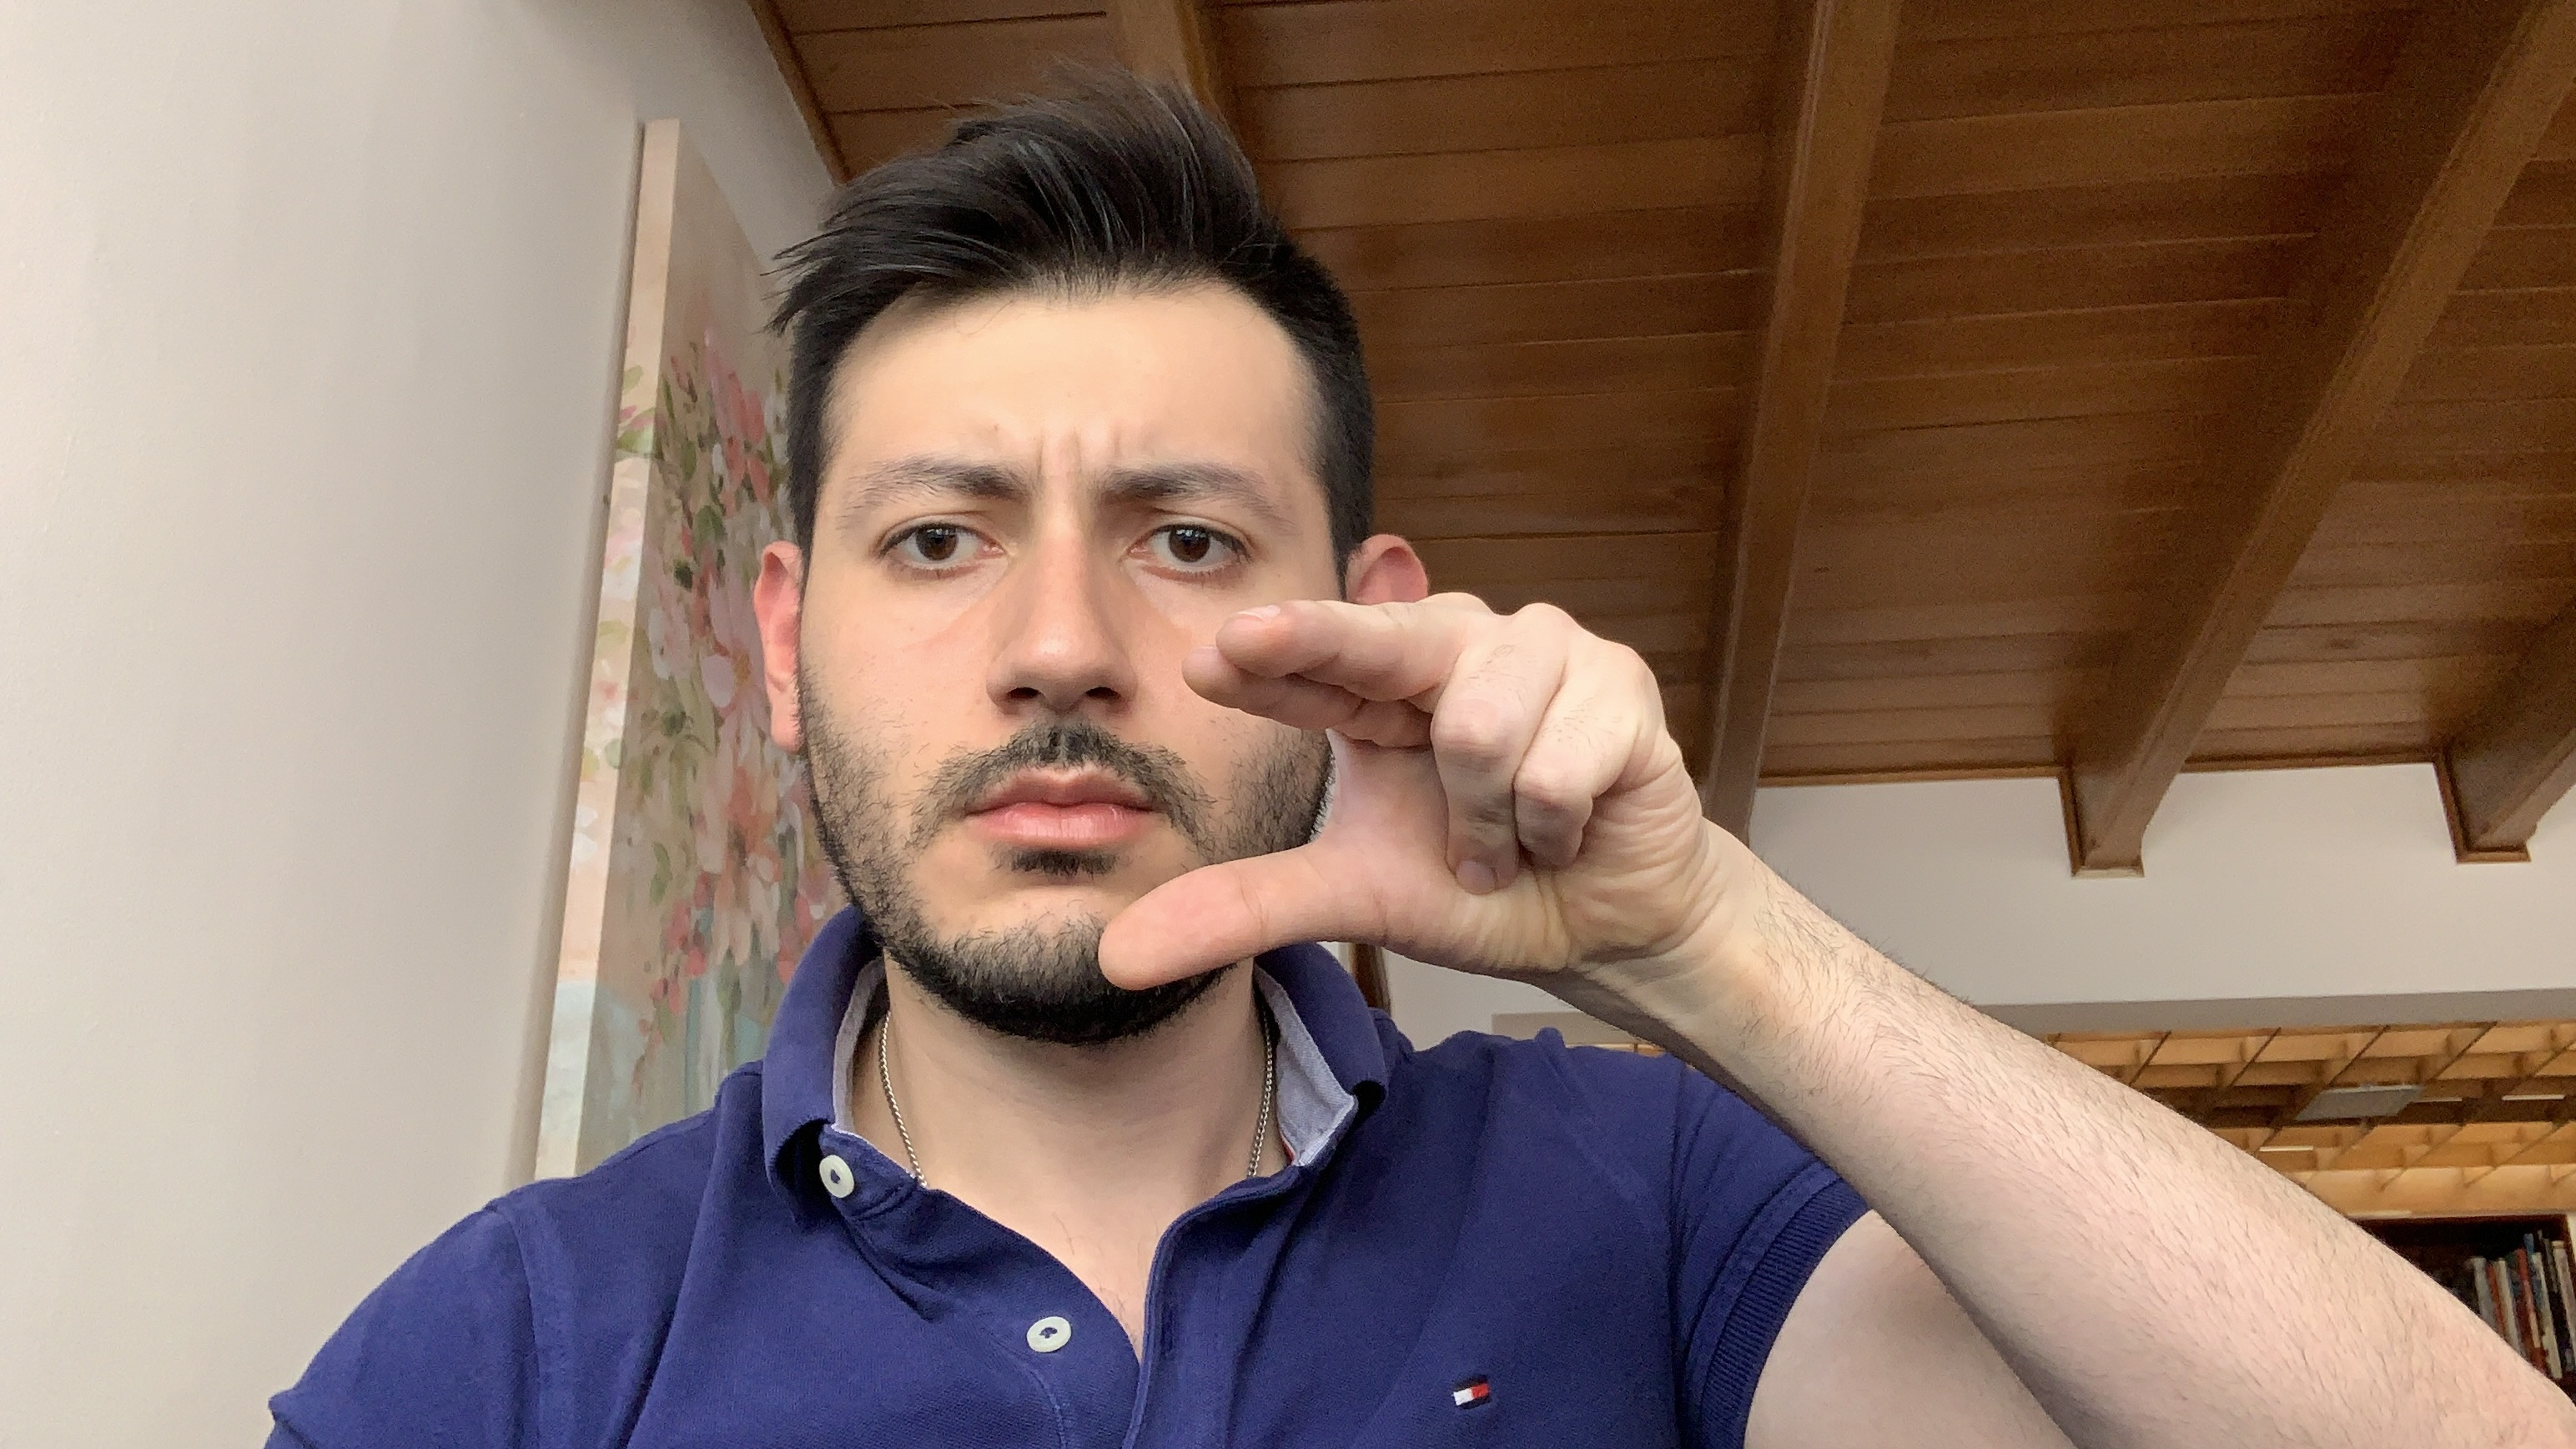No: (1093, 586, 1729, 1019)
